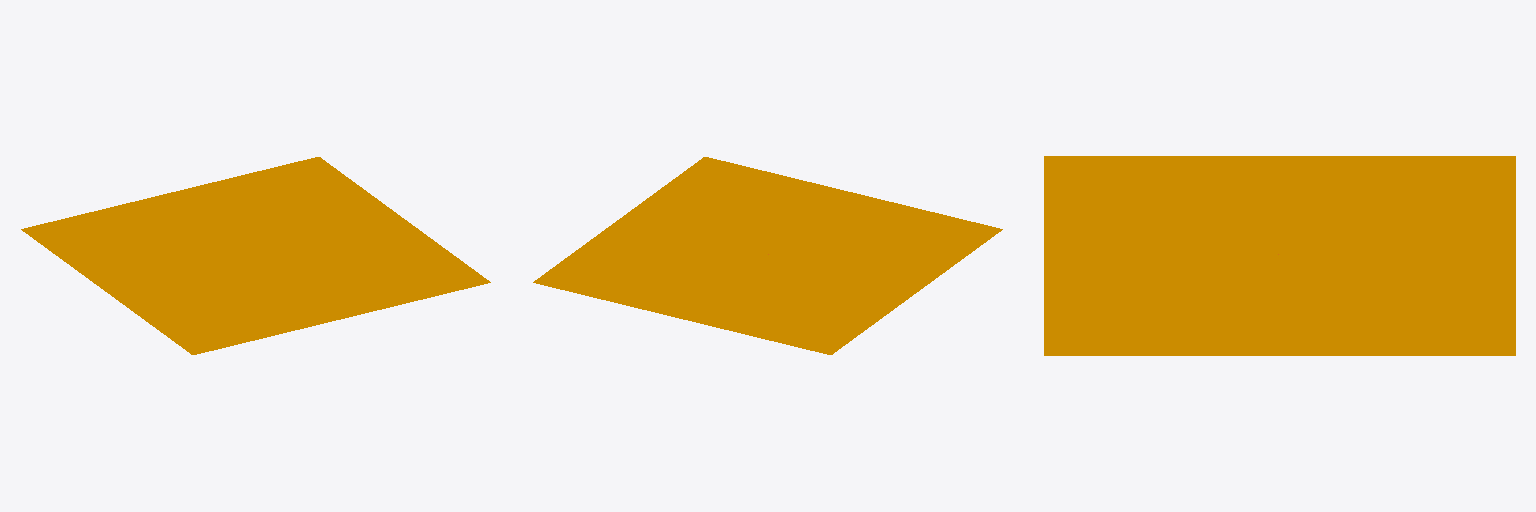
The robot description file, URDF, robot "wheel":
<?xml version="1.0" ?>
<robot name="wheel">

  <material name="industrial-blue">
    <color rgba="0.1137254901960784 0.3450980392156862 0.654901960784313 1" />
  </material>

  <material name="arches-blue">
    <color rgba="0.0 0.6235294117647059 0.8313725490196079 1" />
  </material>

  <material name = "heritage-orange">
    <color rgba = "0.96078431 0.50980392 0.11764706 1" />
  </material>
  
  <link name="ground">
    <visual>
      <origin rpy="0 0 0" xyz="0 0 0"/>
      <geometry>
        <mesh filename="plane_big.obj" scale="1.0 1.0 1.0"/>
      </geometry>
      <material name = "steel"/>
    </visual>
    <inertial>
      <origin rpy="0 0 0" xyz="0 0 0"/>
      <mass value="0"/>
      <inertia ixx="0" ixy="0" ixz="0" iyy="0" iyz="0" izz="0"/>
    </inertial>
  </link>

  <link name="axle">
    <visual>
      <origin rpy="0 0 0" xyz="0 0 0"/>
      <geometry>
  			<mesh filename="cylinder.stl" scale="0.5 0.5 0.333"/>
      </geometry>
      <material name = "arches-blue"/>
    </visual>
    <inertial>
      <origin rpy="0 0 0" xyz="0 0 0"/>
      <mass value="0"/>
      <inertia ixx="0" ixy="0" ixz="0" iyy="0" iyz="0" izz="0"/>
    </inertial>
  </link>

  <link name="wheel">
    <visual>
      <origin rpy="0 0 0" xyz="0 0 0"/>
      <geometry>
  			<mesh filename="cylinder.stl" scale="2.0 2.0 0.333"/>
      </geometry>
      <material name = "industrial-blue"/>
    </visual>
    <inertial>
      <origin rpy="0 0 0" xyz="0 0 0"/>
      <mass value="1.0"/>
      <inertia ixx="0.25924" ixy="0" ixz="0" iyy="0.25924" iyz="0" izz="0.5"/>
    </inertial>
  </link>

  <link name="arrow">
    <visual>
      <origin rpy="0 0 0" xyz="0 0 0"/>
      <geometry>
  			<mesh filename="arrow_lin.stl" scale="1.25 0.1 0.75"/>
      </geometry>
      <material name = "heritage-orange"/>
    </visual>
    <inertial>
      <origin rpy="0 0 0" xyz="0 0 0"/>
      <mass value="0"/>
      <inertia ixx="0" ixy="0" ixz="0" iyy="0" iyz="0" izz="0"/>
    </inertial>
  </link>

  <joint name="ground_to_axle" type="continuous">
		<parent link = "ground" />
		<child link = "axle" />
		<origin xyz = "0 0 0.1665" />
		<axis xyz = "0 0 1" />
  </joint>

  <joint name="axle_to_wheel" type="fixed">
		<parent link = "axle" />
		<child link = "wheel" />
		<origin xyz = "0 0 0.333" />
  </joint>

  <joint name="wheel_to_arrow" type="fixed">
		<parent link = "wheel" />
		<child link = "arrow" />
		<origin xyz="0 -0.1 0.17" rpy="1.5707963267948966 0 0"/>
  </joint>


</robot>

--- What the picture shows (computed from the rendered views, not written in the file) ---
Views: 3 orthographic renders of the robot side by side, from view 1: azimuth 30°, elevation 25°; view 2: azimuth 150°, elevation 25°; view 3: azimuth 270°, elevation 25°.
Robot: wheel — 4 links, 3 joints (1 continuous, 2 fixed); root link ground; default pose: every joint at zero.
Links seen in each view (by area): view 1: ground; view 2: ground; view 3: ground.
Link boxes in pixels (bbox=[...]): ground: bbox=[21, 157, 490, 354]; ground: bbox=[533, 157, 1002, 354]; ground: bbox=[1044, 156, 1515, 355].
Size in the robot's own frame: 200 by 200 by 0.6895 metres.
2 mesh visuals loaded from 3 distinct referenced files (1 binary STL, 1 OBJ); not drawn: 2 (reference not matched to a file when rendering).
